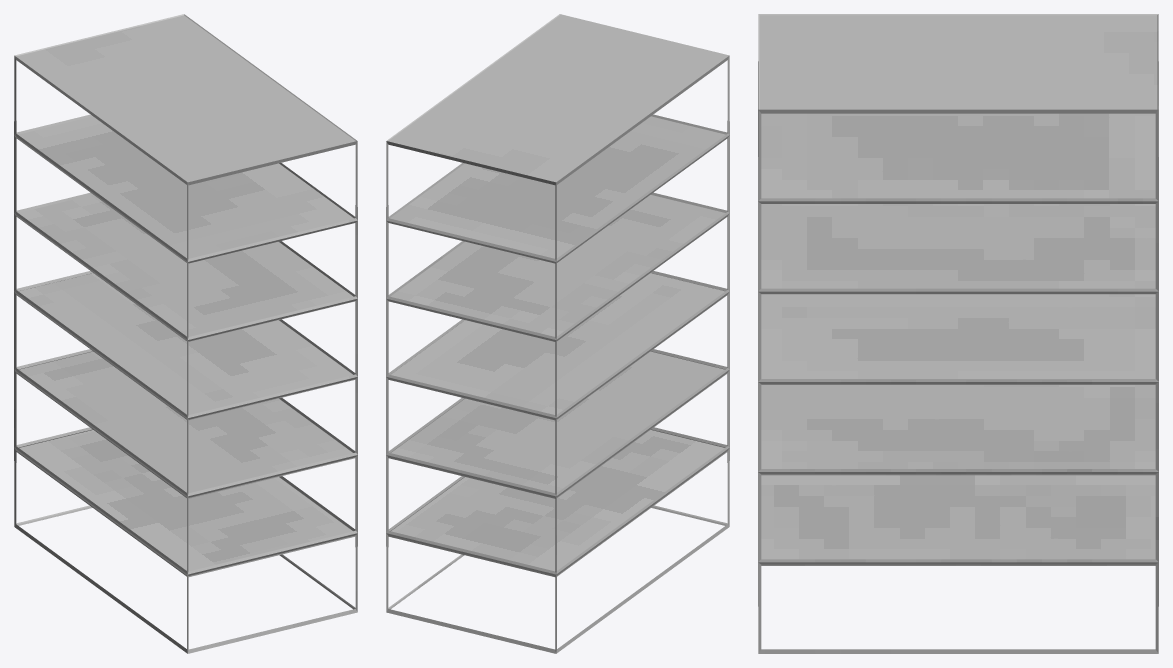
File: wire_shelf_2.fbx
3 renders of one model, left to right at view 1: azimuth 30°, elevation 25°; view 2: azimuth 150°, elevation 25°; view 3: azimuth 270°, elevation 25°, orthographic. The views are drawn at different scales.
Visible parts, largest first — view 1: wire shelf; view 2: wire shelf; view 3: wire shelf.
Part boxes in pixels (left/top/right/bottom): wire shelf: left=14, top=14, right=357, bottom=653; wire shelf: left=386, top=14, right=729, bottom=653; wire shelf: left=758, top=14, right=1158, bottom=653.
Bounding box in the file's own units: 146 × 387 × 258.
Materials: 1 (1 with a texture image).
